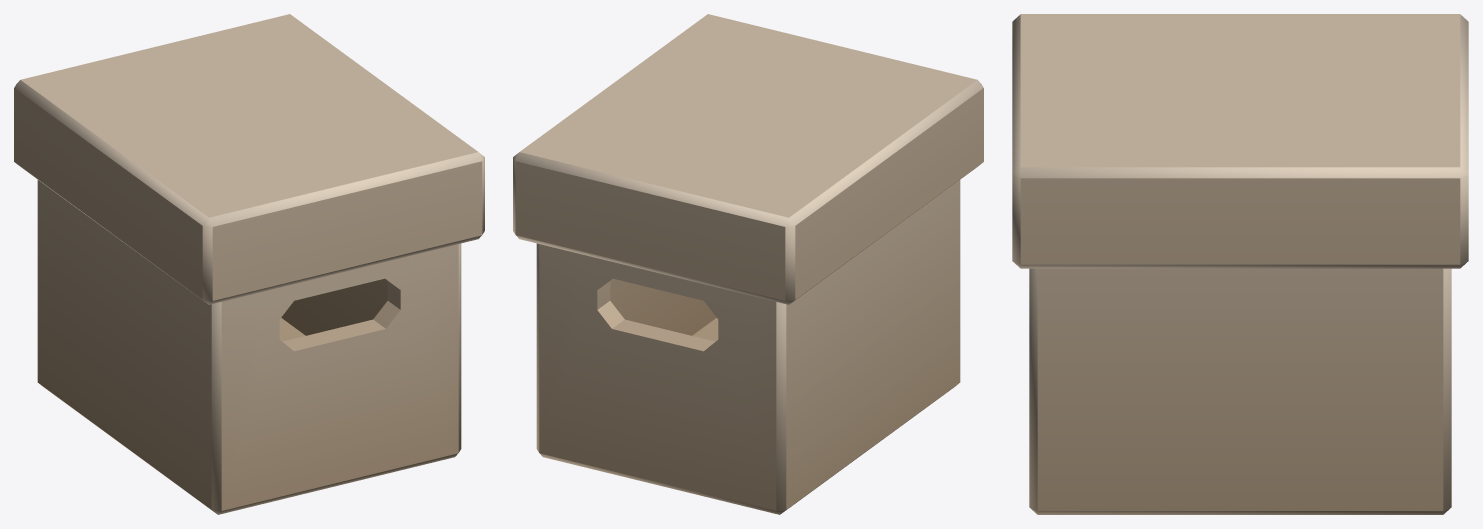
The model's file is comicbox_open.fbx.
3 views of the same model, side by side, from view 1: azimuth 30°, elevation 25°; view 2: azimuth 150°, elevation 25°; view 3: azimuth 270°, elevation 25° (orthographic). The views are drawn at different scales.
Parts seen in each view (by area): view 1: comicbox_lid, comicbox_open; view 2: comicbox_lid, comicbox_open; view 3: comicbox_lid, comicbox_open.
Boxes of the visible parts, x1,y1,x2,y2 form: comicbox_lid: [14, 14, 484, 304]; comicbox_open: [37, 180, 461, 514]; comicbox_lid: [513, 14, 983, 304]; comicbox_open: [536, 180, 960, 514]; comicbox_lid: [1012, 14, 1468, 268]; comicbox_open: [1029, 268, 1451, 514].
Bounding box in the file's own units: 71.88 × 74.61 × 86.41.
